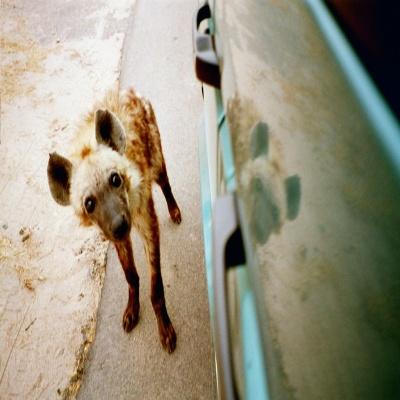hyenas: (23, 62, 220, 390)
